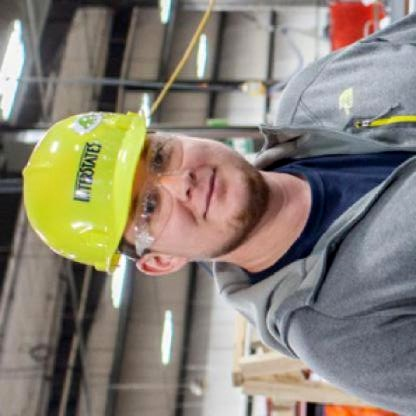yellow: (17, 104, 150, 281)
